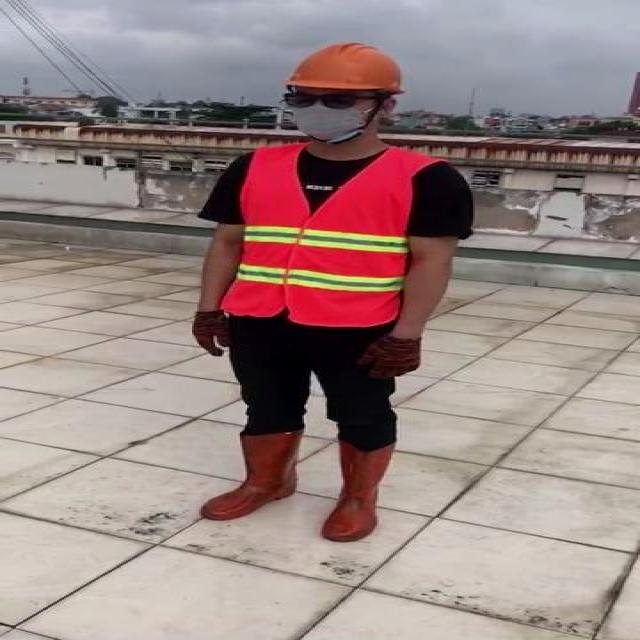boots: (201, 427, 306, 522), (322, 440, 398, 541)
face_mask: (276, 84, 379, 142)
glasses: (276, 85, 370, 114)
hand_glove: (356, 335, 426, 380), (195, 312, 233, 356)
head_helmet: (282, 40, 422, 96)
person: (170, 39, 474, 540)
vest: (226, 142, 412, 324)
